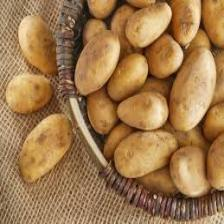Diseased-fungal potato: (15, 108, 75, 186), (144, 26, 186, 85)
Potato: (166, 44, 215, 129), (72, 28, 119, 101), (114, 127, 181, 178), (14, 13, 63, 75), (116, 91, 172, 134), (5, 71, 56, 116), (168, 143, 210, 196), (104, 54, 152, 97), (124, 4, 174, 45), (166, 0, 206, 46), (87, 89, 117, 134), (200, 137, 224, 193), (201, 0, 224, 46)
